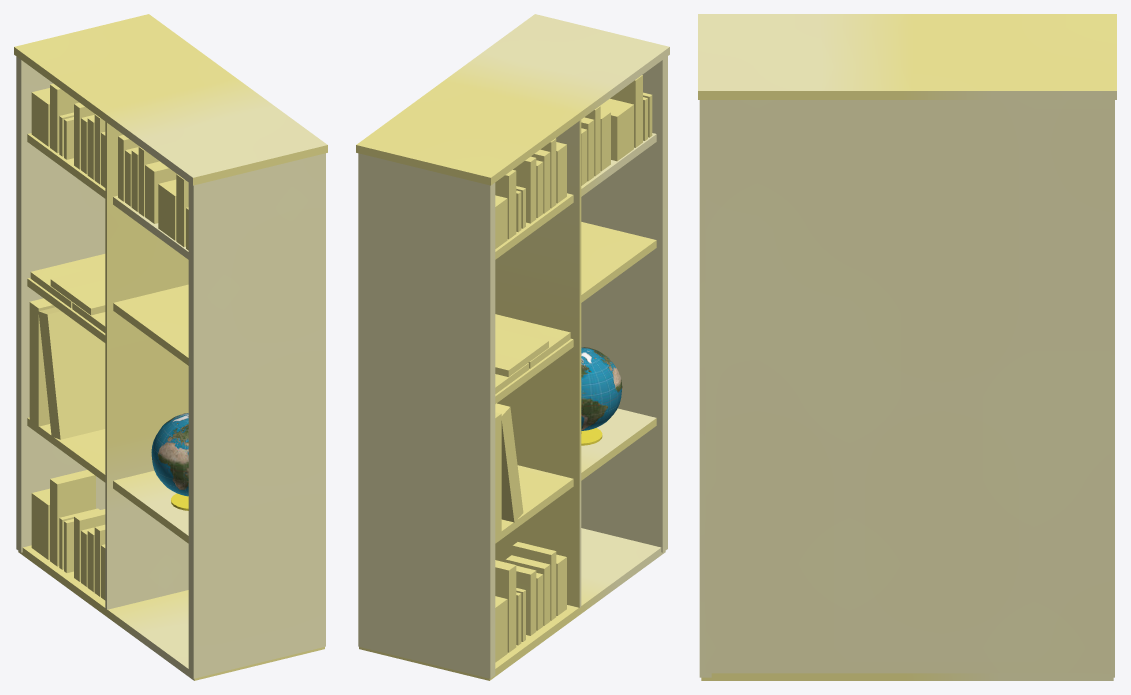
Rendered from bookshelf2.fbx.
The picture shows the model from 3 angles, left to right: view 1: azimuth 30°, elevation 25°; view 2: azimuth 150°, elevation 25°; view 3: azimuth 270°, elevation 25°; orthographic projection. The views are drawn at different scales.
Parts seen in each view (by area): view 1: polySurface57, polySurface125; view 2: polySurface57, polySurface125; view 3: polySurface57.
Boxes of the visible parts, left/top/right/bottom form: polySurface57: left=14, top=14, right=327, bottom=680; polySurface125: left=151, top=413, right=188, bottom=496; polySurface57: left=356, top=14, right=669, bottom=680; polySurface125: left=581, top=347, right=622, bottom=430; polySurface57: left=698, top=14, right=1116, bottom=680.
Size of the model in its own units: 2.29 by 8.2 by 5.27.
5 materials, 4 textured.
